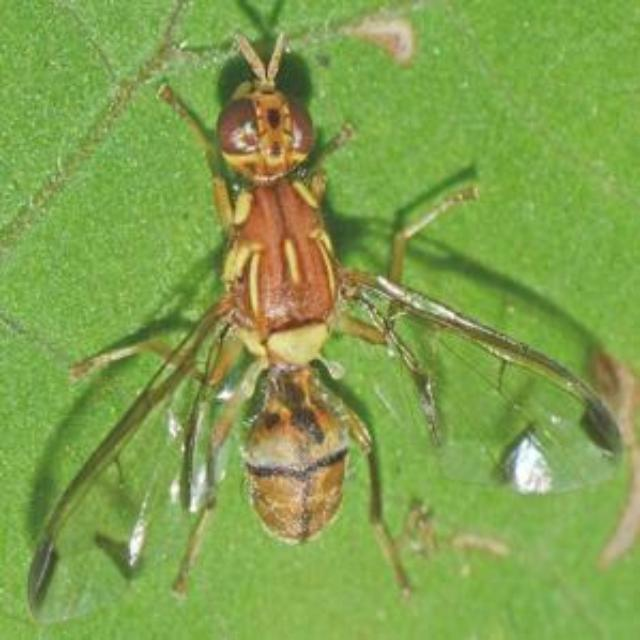melon fly: (14, 9, 628, 633)
